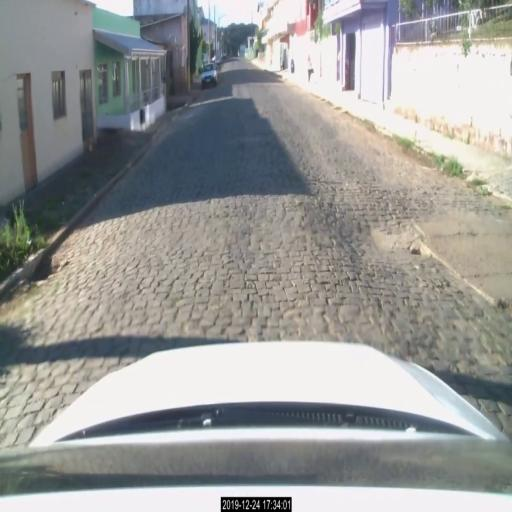Pothole: (23, 245, 58, 284)
